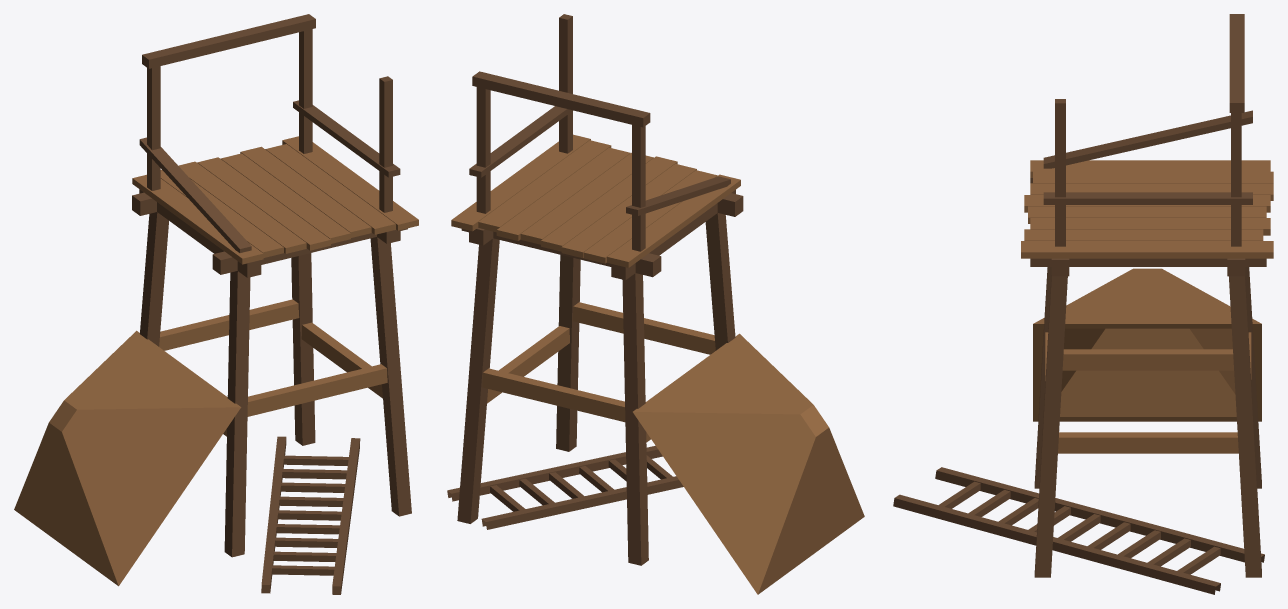
Rendered from GuardTower_build_mat.fbx.
3 views of the same model, side by side, from view 1: azimuth 30°, elevation 25°; view 2: azimuth 150°, elevation 25°; view 3: azimuth 270°, elevation 25° (orthographic). The views are drawn at different scales.
Parts seen in each view (by area): view 1: GuardTower_build_mat; view 2: GuardTower_build_mat; view 3: GuardTower_build_mat.
Part boxes in pixels (x1,y1,x2,y2): GuardTower_build_mat: (14, 14, 418, 594); GuardTower_build_mat: (447, 14, 864, 594); GuardTower_build_mat: (893, 14, 1273, 594).
Bounding box in the file's own units: 2.62 × 3.22 × 2.35.
